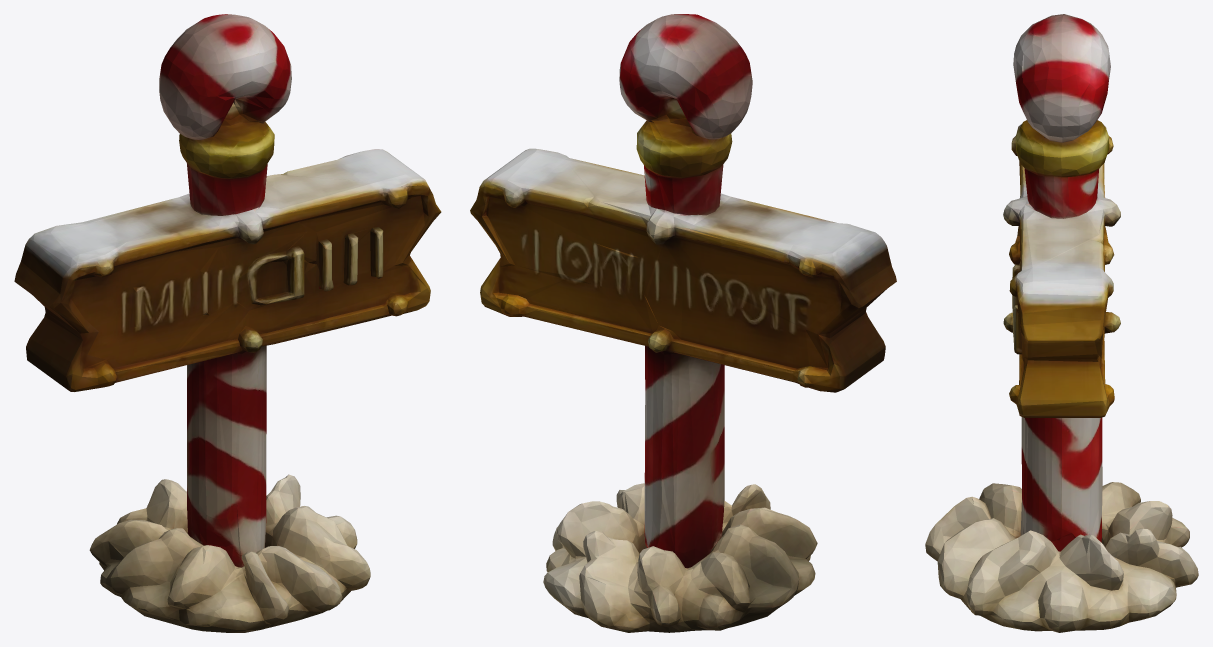
3 renders of one model, left to right at view 1: azimuth 30°, elevation 25°; view 2: azimuth 150°, elevation 25°; view 3: azimuth 270°, elevation 25°, orthographic.
Visible parts, largest first — view 1: world; view 2: world; view 3: world.
Boxes of the visible parts, x1,y1,x2,y2 form: world: [14, 14, 441, 632]; world: [470, 14, 896, 632]; world: [925, 14, 1198, 632].
Size of the model in its own units: 0.7191 by 0.9993 by 0.4414.
Materials: 1 (1 with a texture image).
